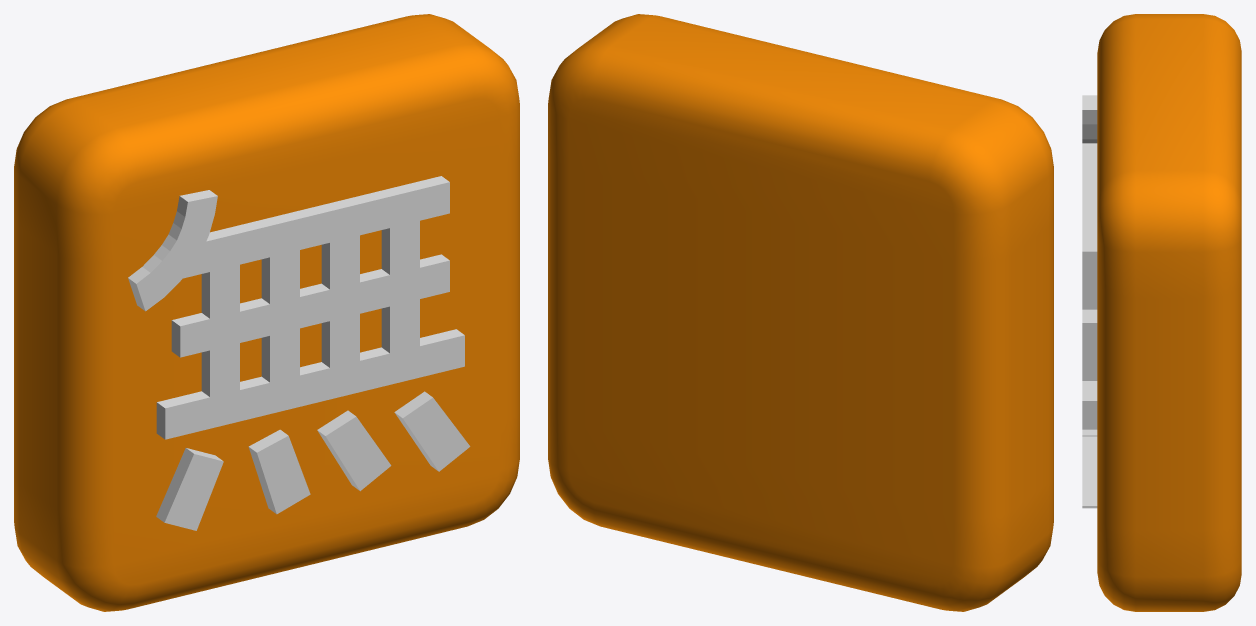
Rendered from japanese_free_of_charge_button.glb.
3 views of the same model, side by side, from view 1: azimuth 30°, elevation 25°; view 2: azimuth 150°, elevation 25°; view 3: azimuth 270°, elevation 25° (orthographic). The views are drawn at different scales.
Visible parts, largest first — view 1: Cube.6655, Plane.354; view 2: Cube.6655; view 3: Cube.6655, Plane.354.
Boxes of the visible parts, left/top/right/bottom form: Cube.6655: left=14, top=14, right=519, bottom=611; Plane.354: left=128, top=176, right=470, bottom=530; Cube.6655: left=548, top=14, right=1053, bottom=611; Cube.6655: left=1097, top=14, right=1241, bottom=611; Plane.354: left=1082, top=95, right=1097, bottom=508.
Bounding box in the file's own units: 2.2 × 2.2 × 0.73.
Materials: 1 (1 with a texture image).
